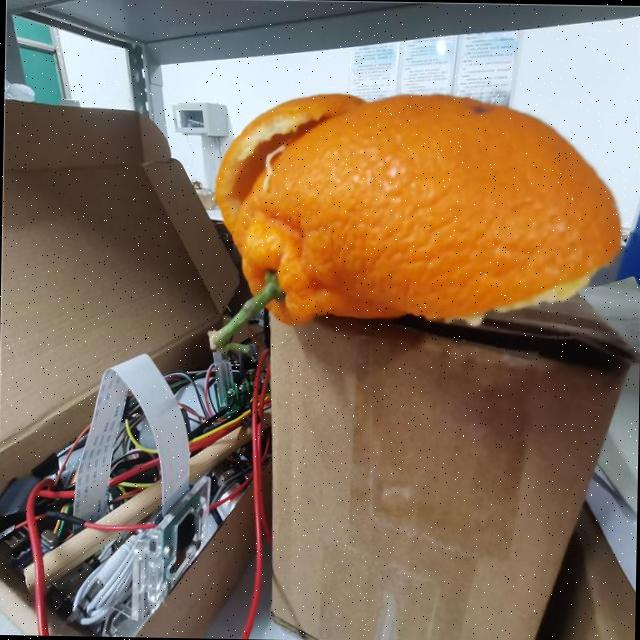orange-peel: (214, 87, 624, 331)
